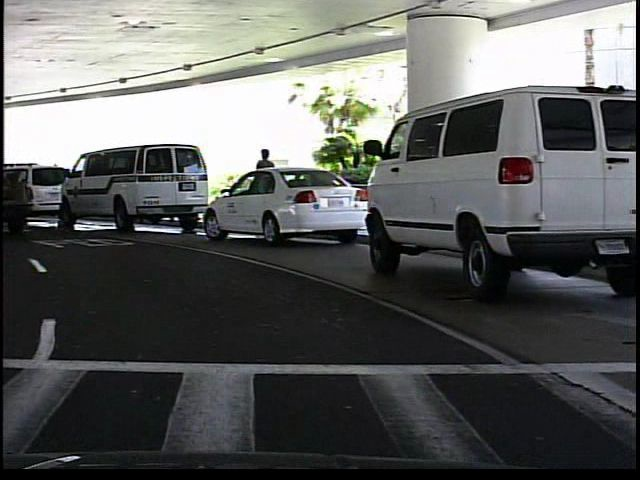person: (252, 144, 280, 223)
